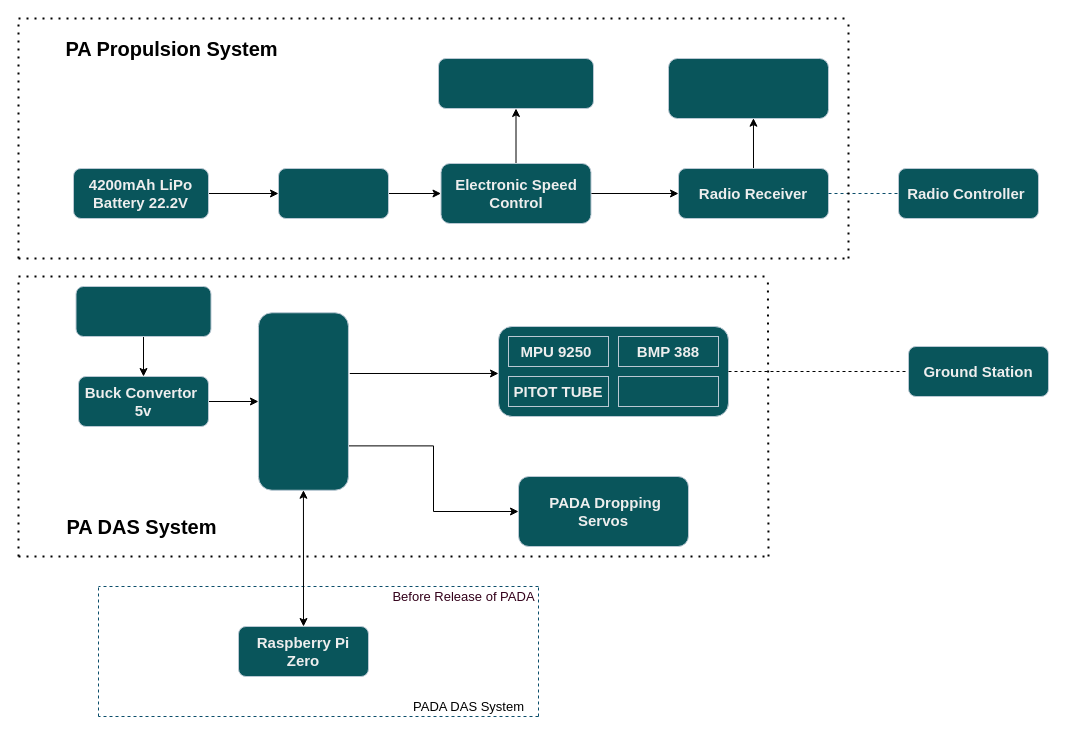
Image size: 1066x735. Some labels were removed from this diagram. Here are the shapes that lost their labels. From the top down, the centre of each, then its label:
point (516, 83): Motor
point (748, 88): Control Surfaces
point (333, 193): Power Limiter
point (143, 311): 5200mAh LiPo Battery 7.4V
point (303, 401): ESP-Wroom-32
point (668, 391): LoRa RA-02
